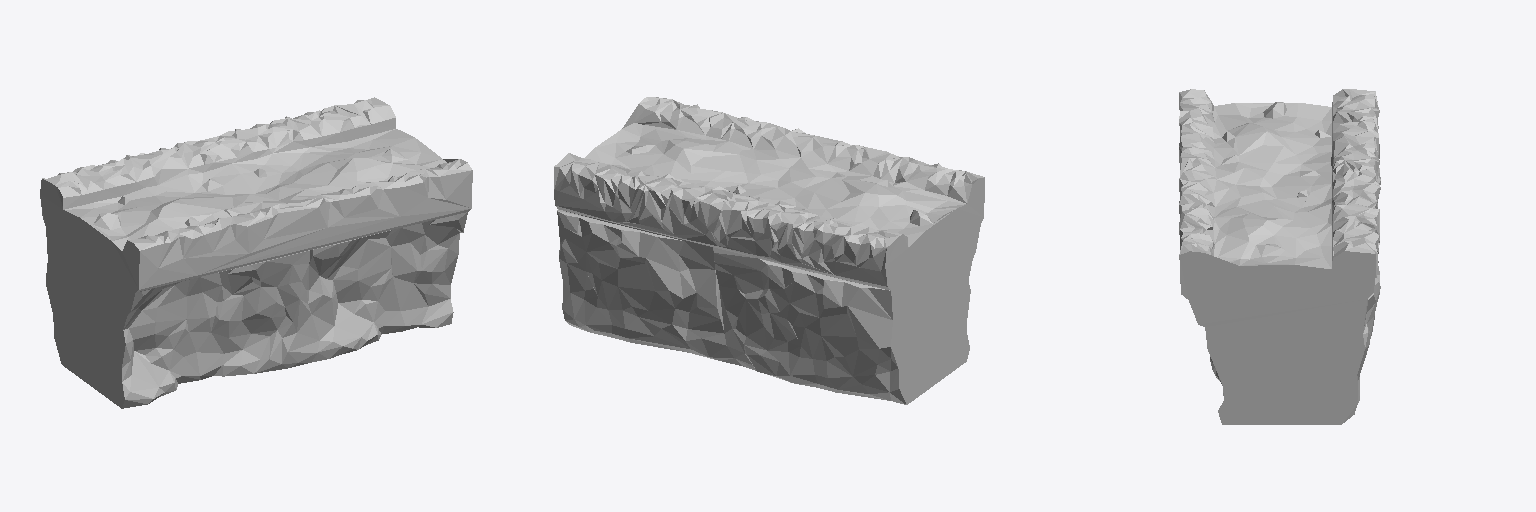
The picture shows the model from 3 angles: view 1: azimuth 30°, elevation 25°; view 2: azimuth 150°, elevation 25°; view 3: azimuth 270°, elevation 25°; orthographic projection.
Parts seen in each view (by area): view 1: base_low_1:Group35363; view 2: base_low_1:Group35363; view 3: base_low_1:Group35363.
Part boxes in pixels (x1,y1,x2,y2): base_low_1:Group35363: (40,97,472,408); base_low_1:Group35363: (554,97,984,404); base_low_1:Group35363: (1179,89,1380,424).
Bounding box in the file's own units: 98.47 × 50.01 × 51.72.